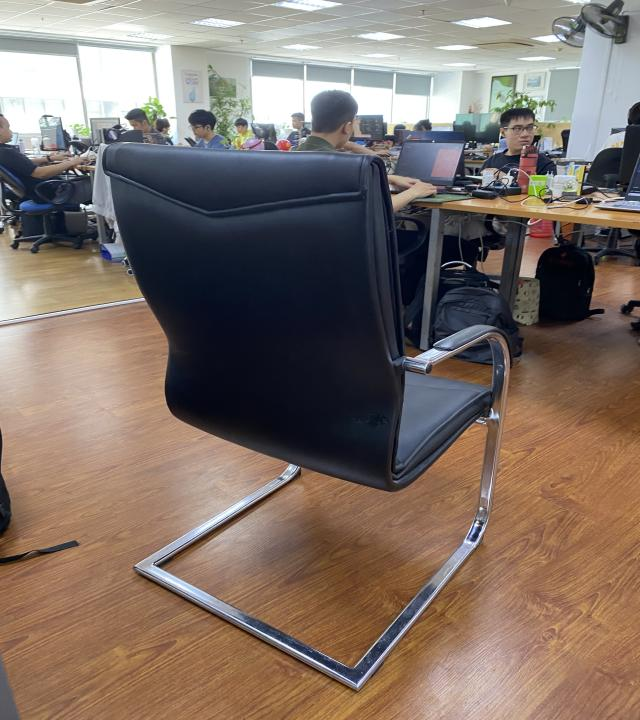SS_03: (103, 140, 515, 696)
